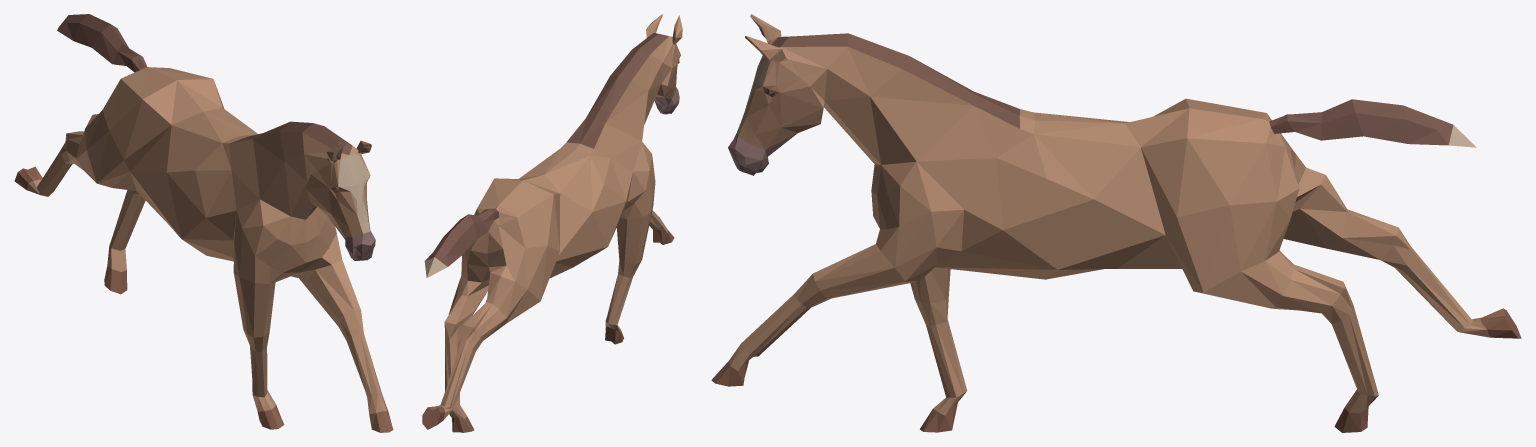
3 renders of one model, left to right at view 1: azimuth 30°, elevation 25°; view 2: azimuth 150°, elevation 25°; view 3: azimuth 270°, elevation 25°, orthographic. The views are drawn at different scales.
Parts seen in each view (by area): view 1: mesh_0; view 2: mesh_0; view 3: mesh_0.
Boxes of the visible parts, x1=… form: mesh_0: x1=14, y1=14, x2=393, y2=432; mesh_0: x1=422, y1=14, x2=682, y2=432; mesh_0: x1=711, y1=14, x2=1521, y2=432.
Size of the model in its own units: 61.41 by 182 by 322.
